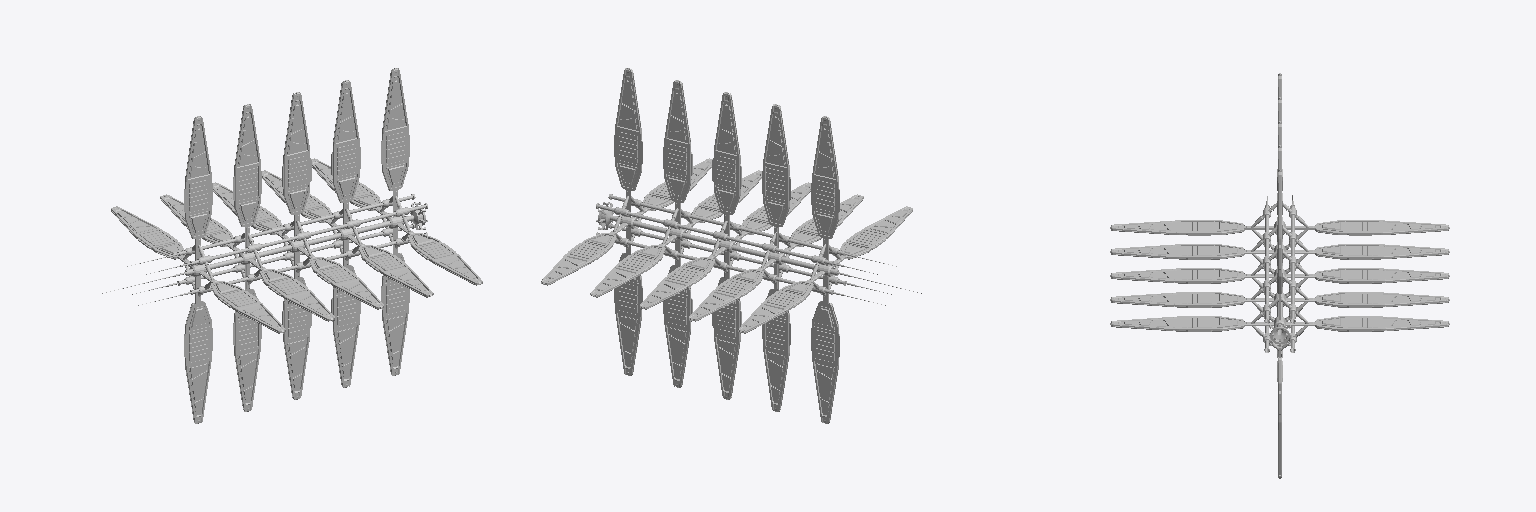
The model's file is meanPanneaux.obj.
3 renders of one model, left to right at view 1: azimuth 30°, elevation 25°; view 2: azimuth 150°, elevation 25°; view 3: azimuth 270°, elevation 25°, orthographic.
Visible parts, largest first — view 1: Solar_Panels_Cylinder.004; view 2: Solar_Panels_Cylinder.004; view 3: Solar_Panels_Cylinder.004.
Part boxes in pixels (left/top/right/bottom): Solar_Panels_Cylinder.004: left=102, top=68, right=482, bottom=423; Solar_Panels_Cylinder.004: left=541, top=68, right=921, bottom=423; Solar_Panels_Cylinder.004: left=1110, top=73, right=1449, bottom=478.
Bounding box in the file's own units: 0.714 × 0.6351 × 0.6351.